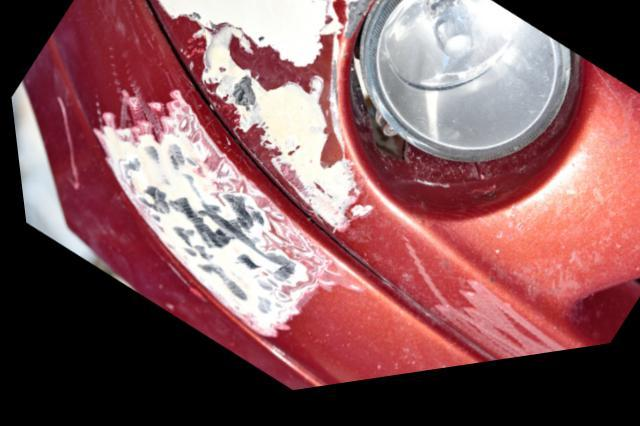scratch: (87, 88, 359, 356), (145, 0, 387, 262), (389, 251, 563, 375)
